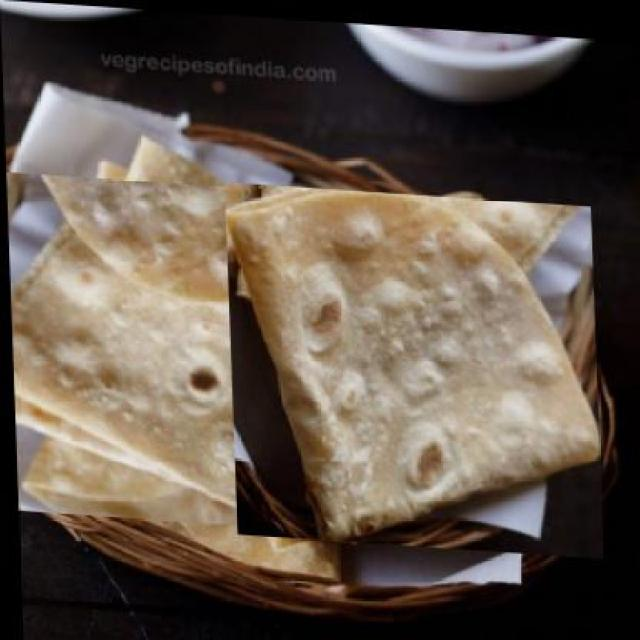chapati: (4, 148, 382, 555), (225, 175, 598, 556)
